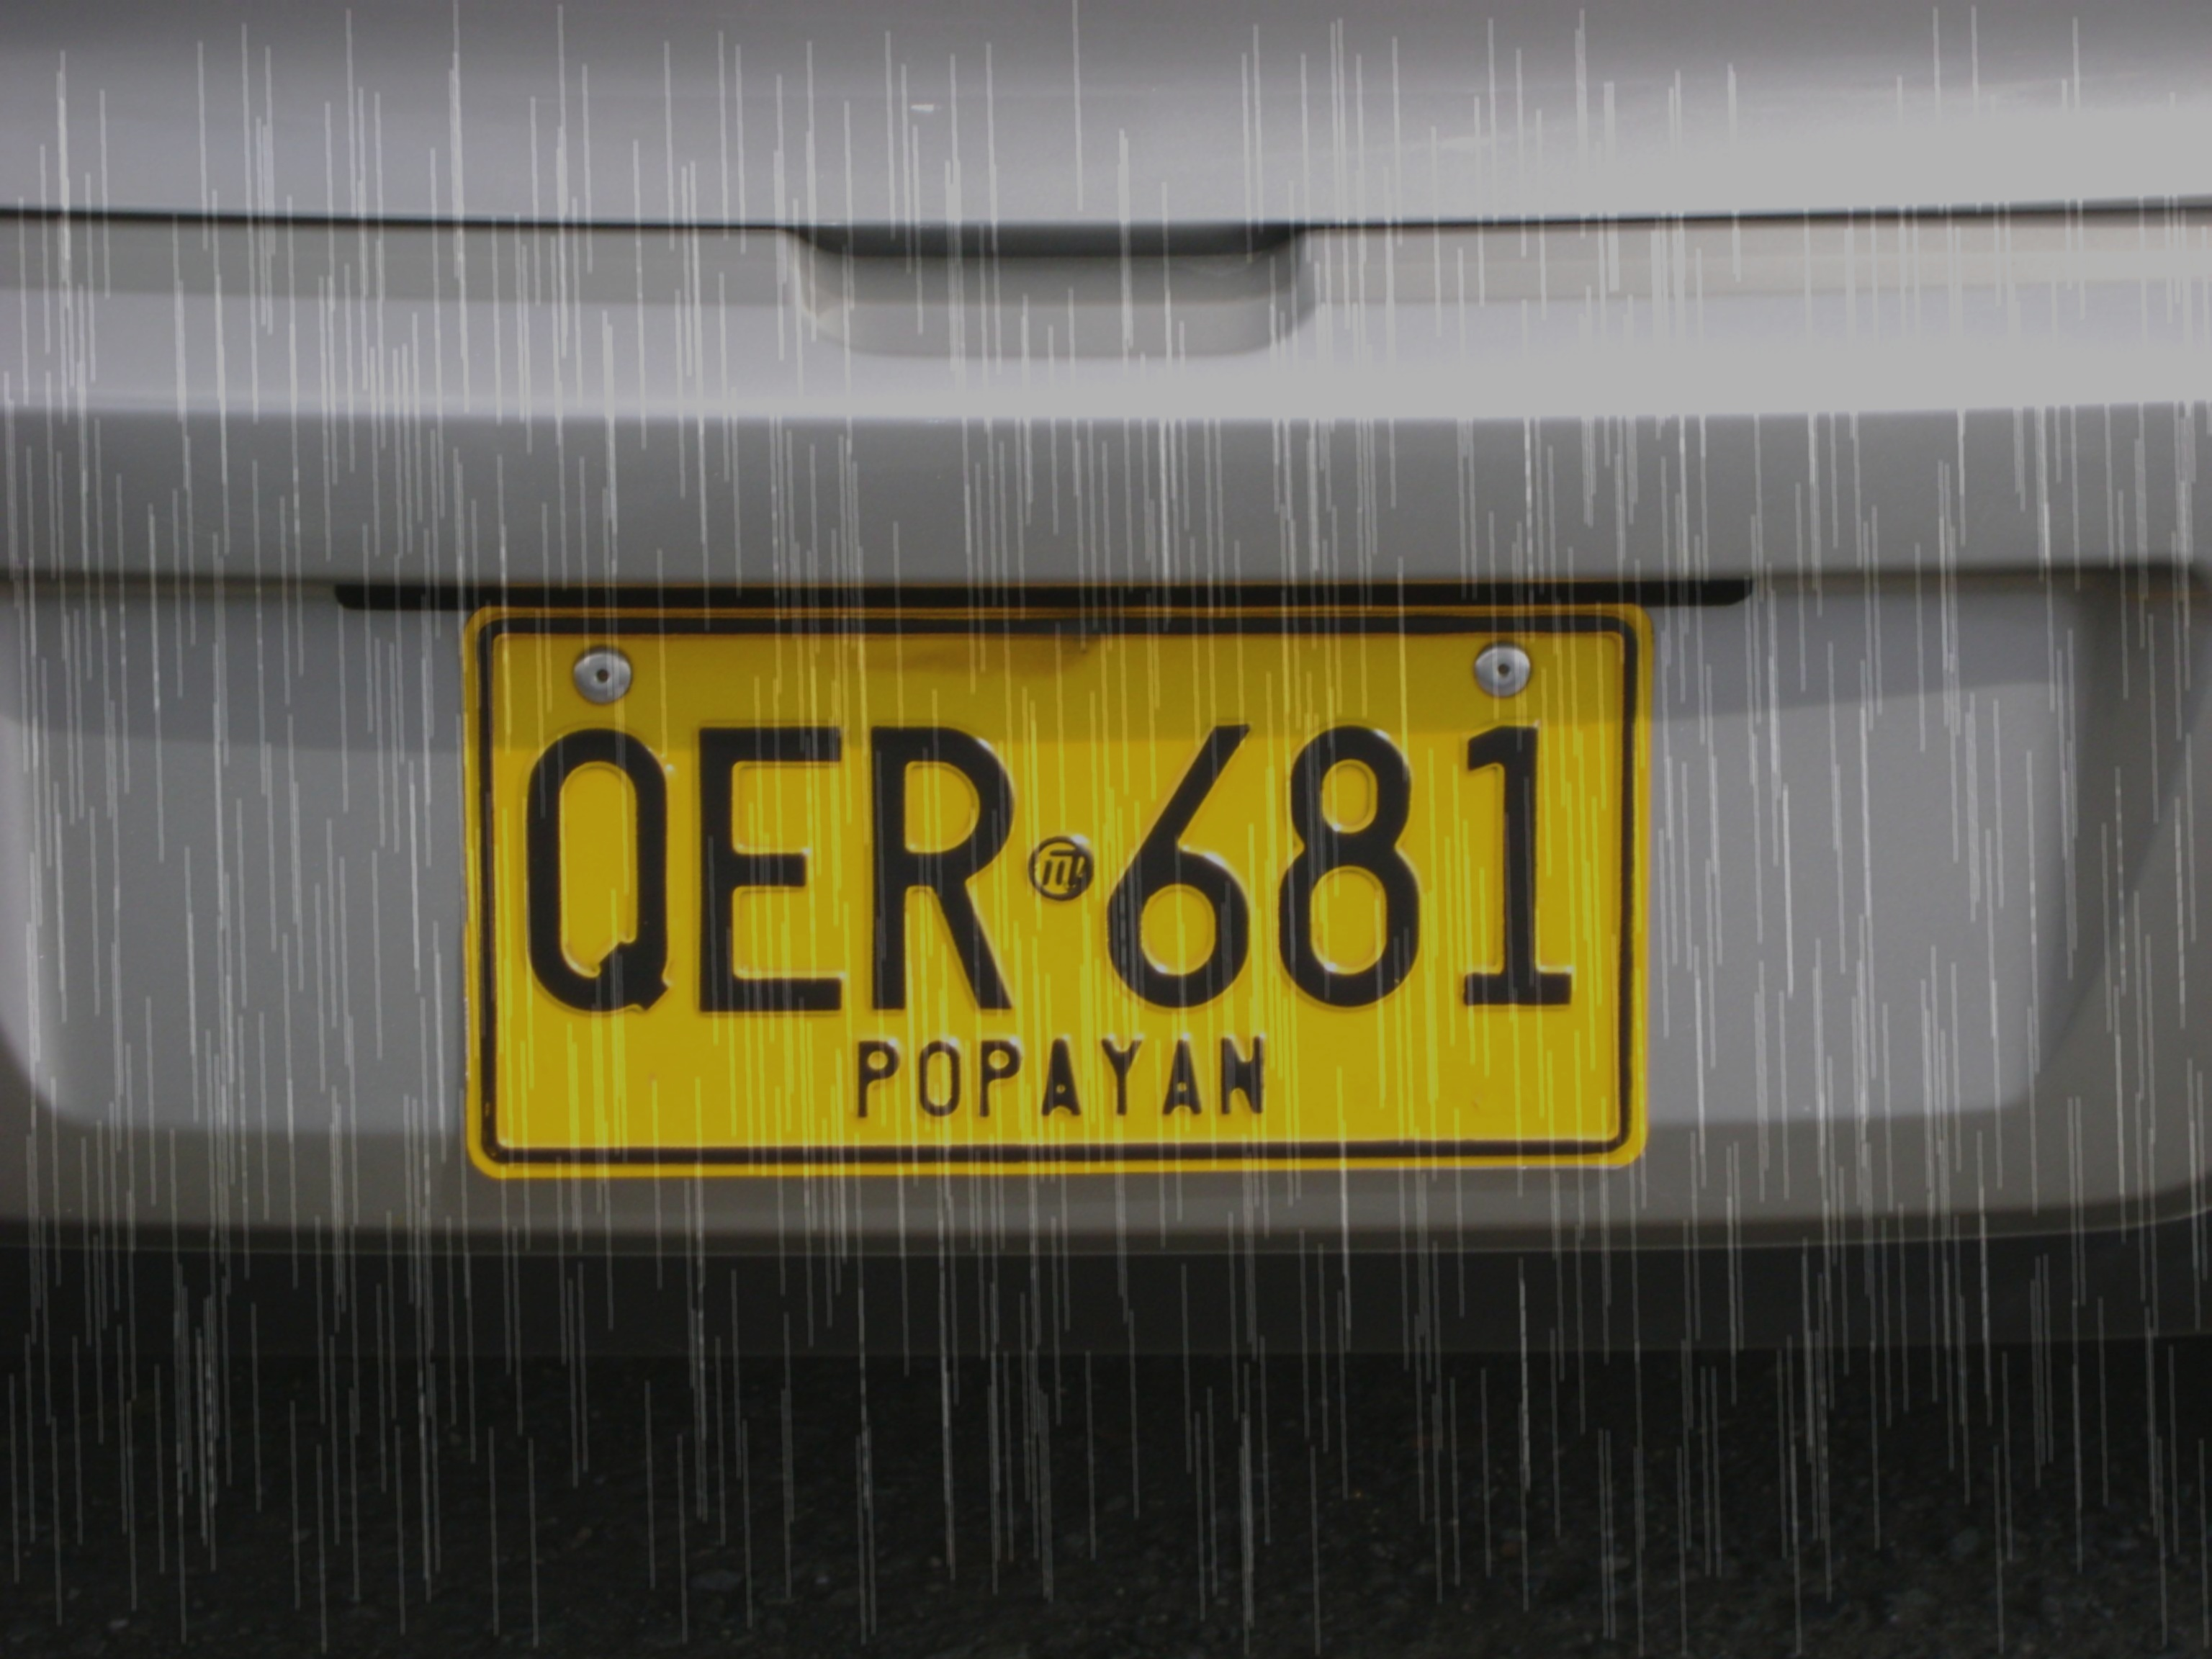placas: (444, 578, 1676, 1196)
